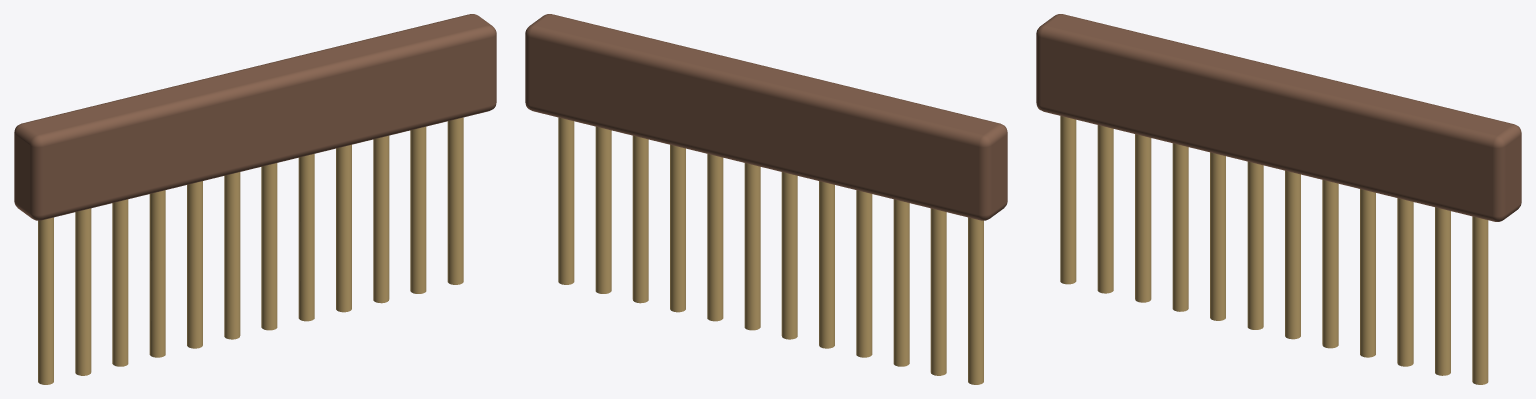
File: griffin-airmail-roost-and-posthouse-feather-comb-43e3aef5__30512.glb
3 views of the same model, side by side, from view 1: azimuth 30°, elevation 25°; view 2: azimuth 150°, elevation 25°; view 3: azimuth 330°, elevation 25° (orthographic).
Parts seen in each view (by area): view 1: feather-comb; view 2: feather-comb; view 3: feather-comb.
Boxes of the visible parts, <box> form: feather-comb: <box>14,14,496,384</box>; feather-comb: <box>525,14,1007,384</box>; feather-comb: <box>1036,14,1521,384</box>.
Bounding box in the file's own units: 0.2 × 0.105 × 0.018.
